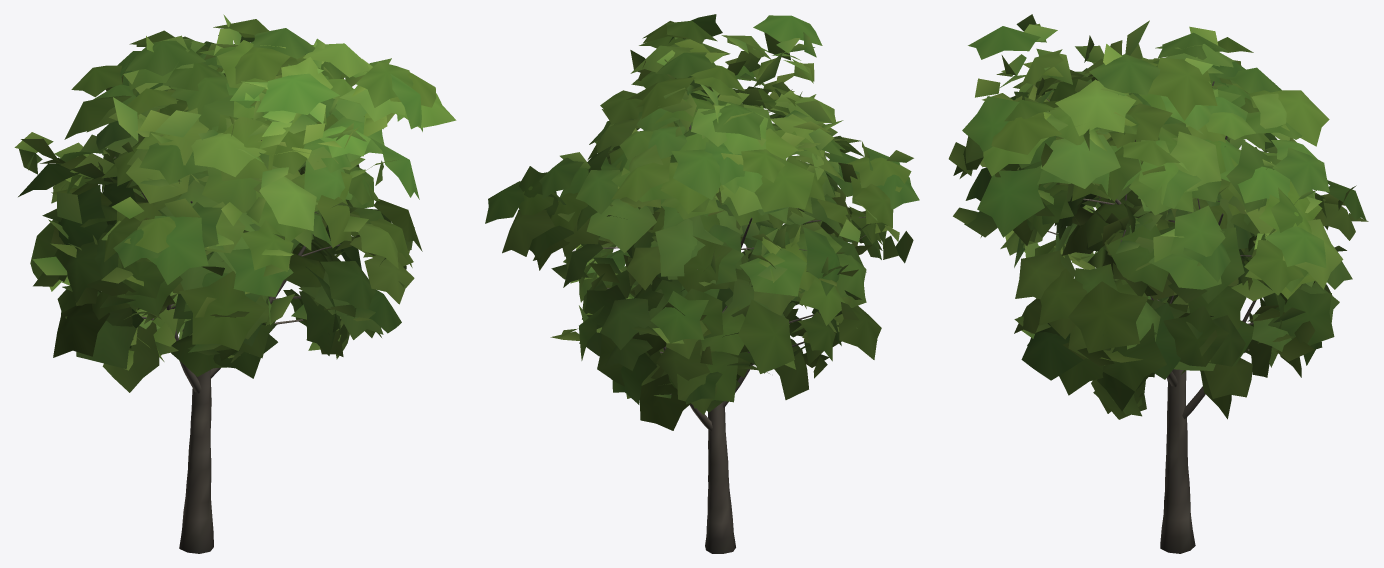
The model's file is lime-c.lod0.glb.
3 views of the same model, side by side, from view 1: azimuth 30°, elevation 25°; view 2: azimuth 150°, elevation 25°; view 3: azimuth 270°, elevation 25° (orthographic). The views are drawn at different scales.
Bounding box in the file's own units: 10.21 × 14.19 × 10.32.
